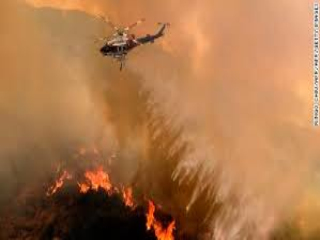fire: (47, 163, 144, 210), (144, 206, 189, 237)
